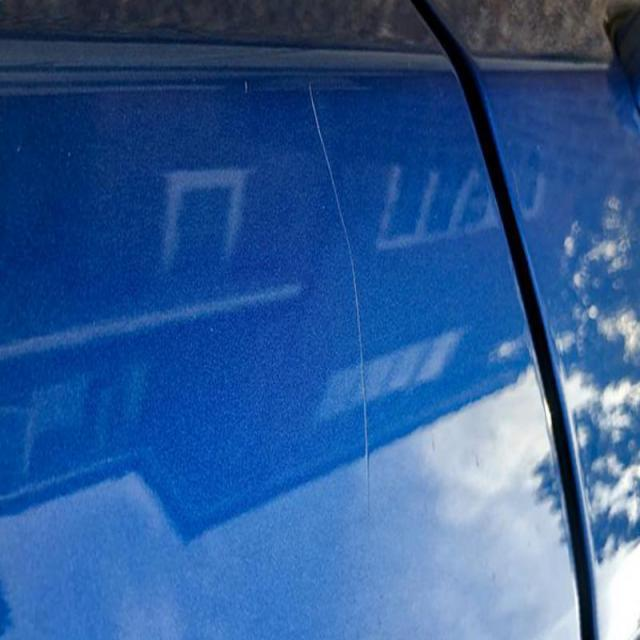scratch: (302, 68, 376, 530)
